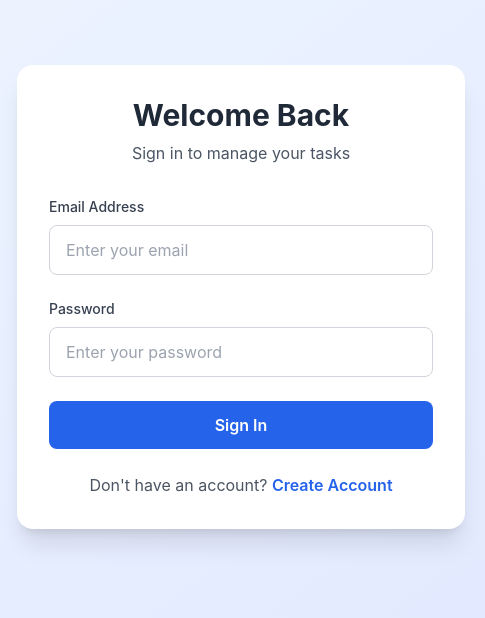
Test: Login Component › handles unexpected error
Type "test@example.com" into the field with test id "email-input". click: (241, 250)
box: [49,225,433,275]
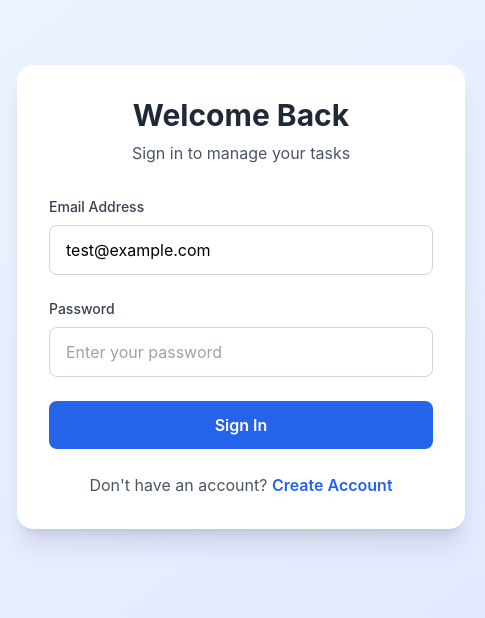
Type "password123" into the password field with test id "password-input". click: (241, 352)
box: [49,327,433,377]
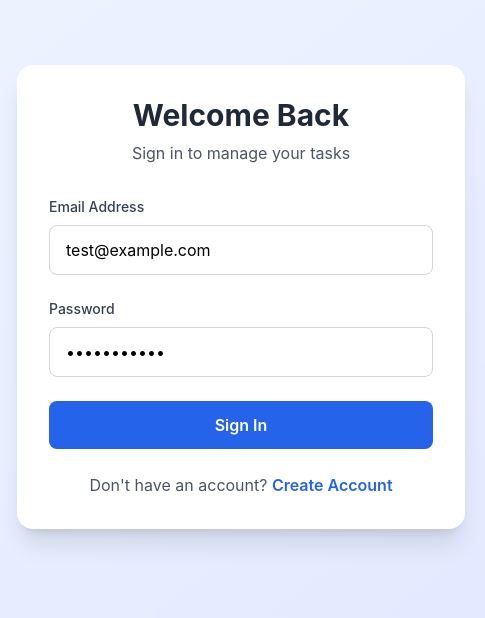
Click the button with test id "login-button". click: click(241, 425)
box: [49,401,433,449]
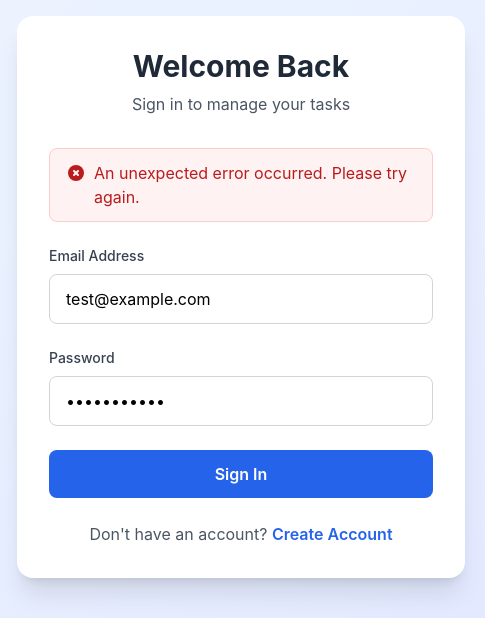
Check: the text "An unexpected error occurred. Please try again." is shown, box [94,161,416,209]
